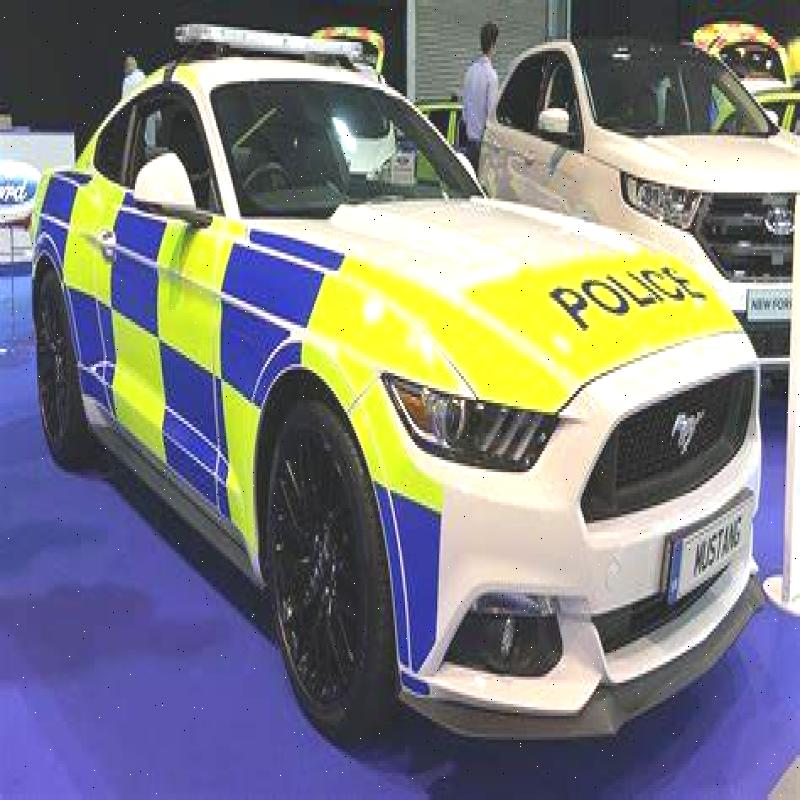AmbulanceSiren: (169, 12, 385, 66)
